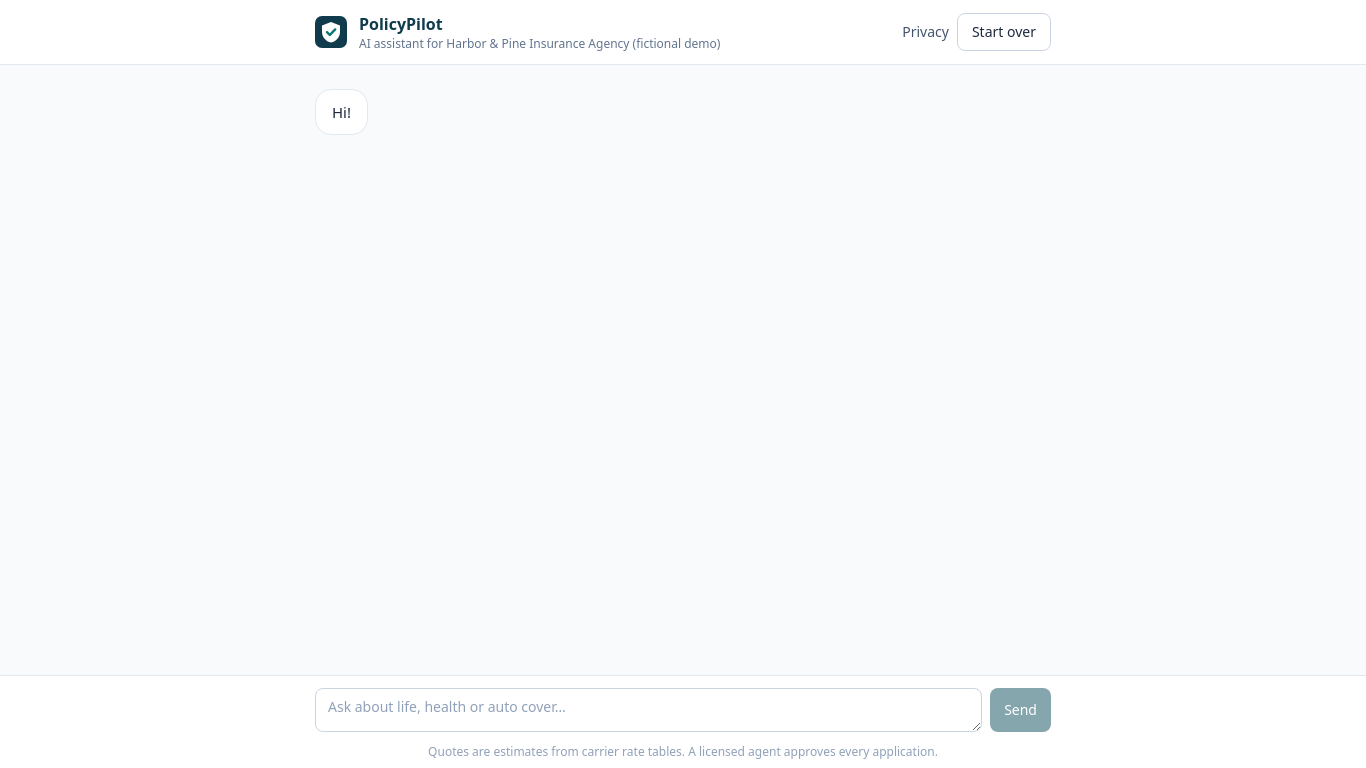
Test case: chat client after review 02 › keeps a turn retryable when the stream closes without completing (finding 24)
Expected: the text "Hi!" is shown, [332,100,351,124]
Type "hello there" into the text box named "Your message" at (649, 710), box [315,688,982,732]
Then press Enter
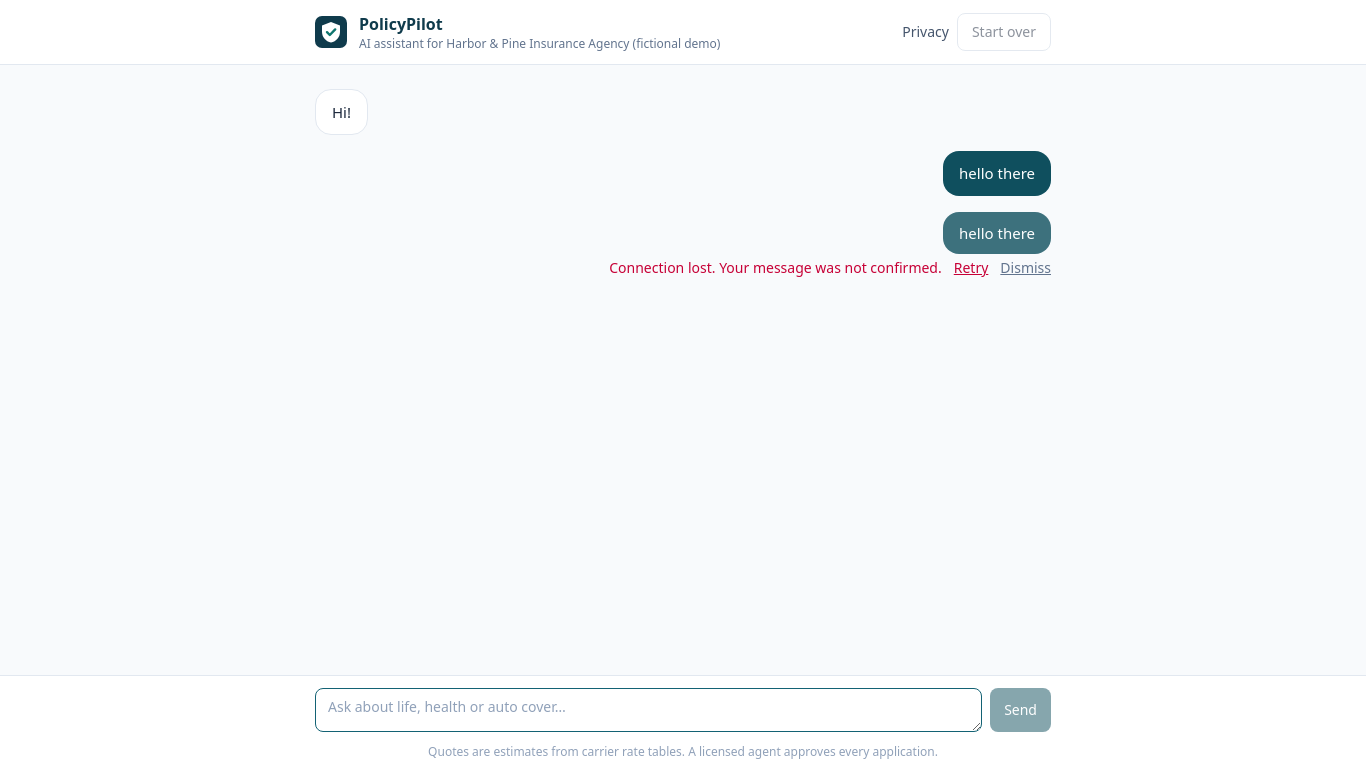
Now the message shows "Connection lost", box [609,258,942,277]
Now the button "Retry" is shown, box [954,258,988,278]
